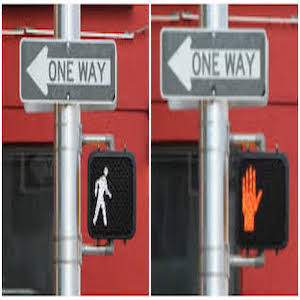green: (89, 165, 122, 234)
red: (234, 163, 267, 228)
